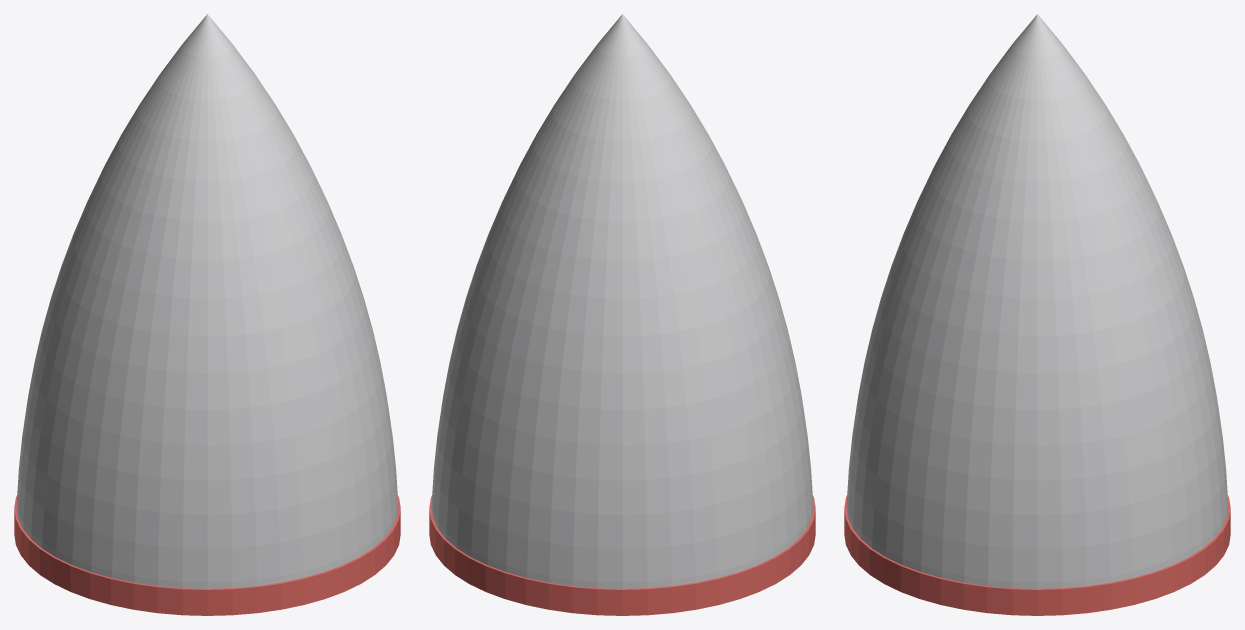
Rendered from nose_ogive.glb.
3 renders of one model, left to right at view 1: azimuth 30°, elevation 25°; view 2: azimuth 150°, elevation 25°; view 3: azimuth 270°, elevation 25°, orthographic.
Visible parts, largest first — view 1: nose_ogive_0, nose_ogive_1; view 2: nose_ogive_0, nose_ogive_1; view 3: nose_ogive_0, nose_ogive_1.
Part boxes in pixels (x1,y1,x2,y2): nose_ogive_0: (16, 14, 398, 588); nose_ogive_1: (14, 495, 400, 615); nose_ogive_0: (431, 14, 813, 588); nose_ogive_1: (429, 495, 815, 615); nose_ogive_0: (846, 14, 1228, 588); nose_ogive_1: (844, 495, 1230, 615).
Bounding box in the file's own units: 2.02 × 3 × 2.02.
